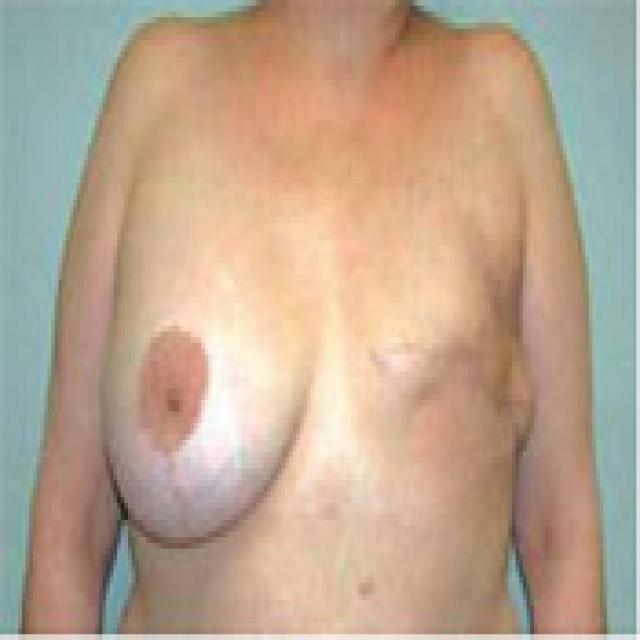Seno herido: (329, 201, 542, 472)
Seno ileso: (97, 201, 325, 578)
